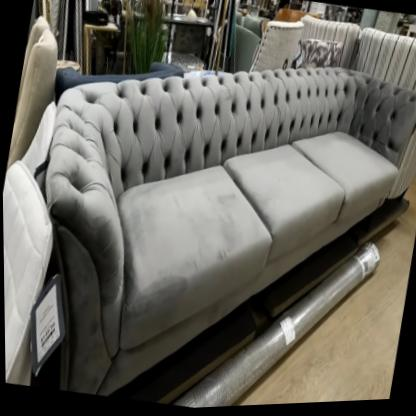Sofa: (8, 6, 416, 408)
Wooden floor: (235, 180, 416, 408)
